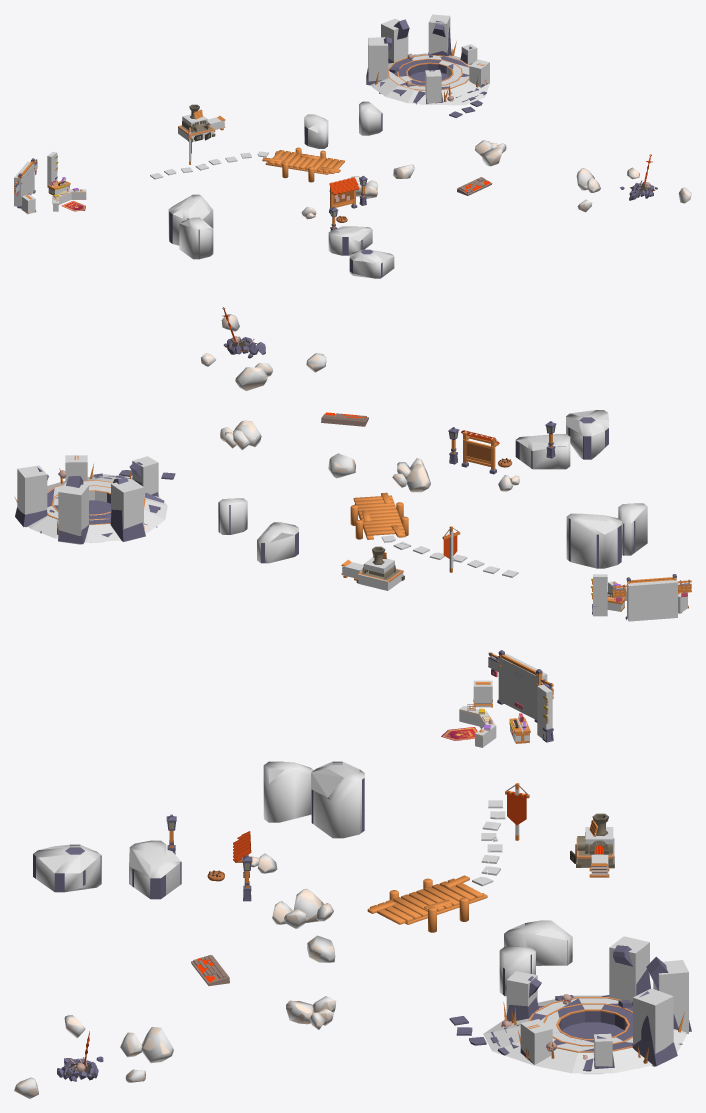
File: sceneryStatic.glb
3 renders of one model, top to bottom at view 1: azimuth 30°, elevation 25°; view 2: azimuth 150°, elevation 25°; view 3: azimuth 270°, elevation 25°, orthographic. The views are drawn at different scales.
Visible parts, largest first — view 1: trimesh.001, Cube.139, hull.016, hull.015, Cylinder.021, hull.011, hull.012, Cube.165, Cube.172, hull.014, Cube.164, Cube.146 (+7 smaller); view 2: hull.015, trimesh.001, Cube.139, Cube.089, Cube.172, hull.012, Cube.164, hull.011, Cube.146, Cylinder.022, hull.014, Cube.165 (+12 smaller); view 3: trimesh.001, hull.015, Cube.139, hull.016, Cube.172, Cylinder.021, hull.011, hull.014, hull.012, Cube.146, Cube.165, Cube.089 (+10 smaller).
Boxes of the visible parts, box(x1,y1,x2,y2) form: trimesh.001: box(371, 53, 490, 105); Cube.139: box(262, 147, 344, 182); hull.016: box(179, 217, 213, 259); hull.015: box(168, 194, 213, 245); Cylinder.021: box(388, 56, 486, 102); hull.011: box(349, 249, 394, 278); hull.012: box(328, 226, 372, 255); Cube.165: box(368, 37, 388, 85); Cube.172: box(366, 19, 472, 103); hull.014: box(304, 114, 328, 148); Cube.164: box(381, 18, 408, 62); Cube.146: box(428, 14, 450, 54); hull.015: box(566, 513, 621, 568); trimesh.001: box(28, 474, 167, 542); Cube.139: box(350, 492, 408, 539); Cube.089: box(627, 579, 677, 621); Cube.172: box(15, 462, 158, 544); hull.012: box(516, 434, 570, 469); Cube.164: box(58, 482, 88, 544); hull.011: box(566, 410, 608, 459); Cube.146: box(17, 465, 47, 527); Cylinder.022: box(218, 417, 635, 568); hull.014: box(257, 522, 298, 563); Cube.165: box(111, 478, 143, 541); trimesh.001: box(483, 995, 686, 1074); hull.015: box(311, 761, 364, 838); Cube.139: box(367, 875, 487, 932); hull.016: box(263, 761, 313, 822); Cube.172: box(506, 945, 691, 1068); Cylinder.021: box(490, 998, 632, 1055); hull.011: box(33, 844, 101, 892); hull.014: box(504, 920, 572, 965); hull.012: box(129, 840, 181, 898); Cube.146: box(633, 988, 673, 1066); Cube.165: box(609, 936, 649, 1002); Cube.089: box(498, 654, 547, 718).
Bounding box in the file's own units: 69.21 × 8.2 × 50.04.
24 materials, 3 textured.
